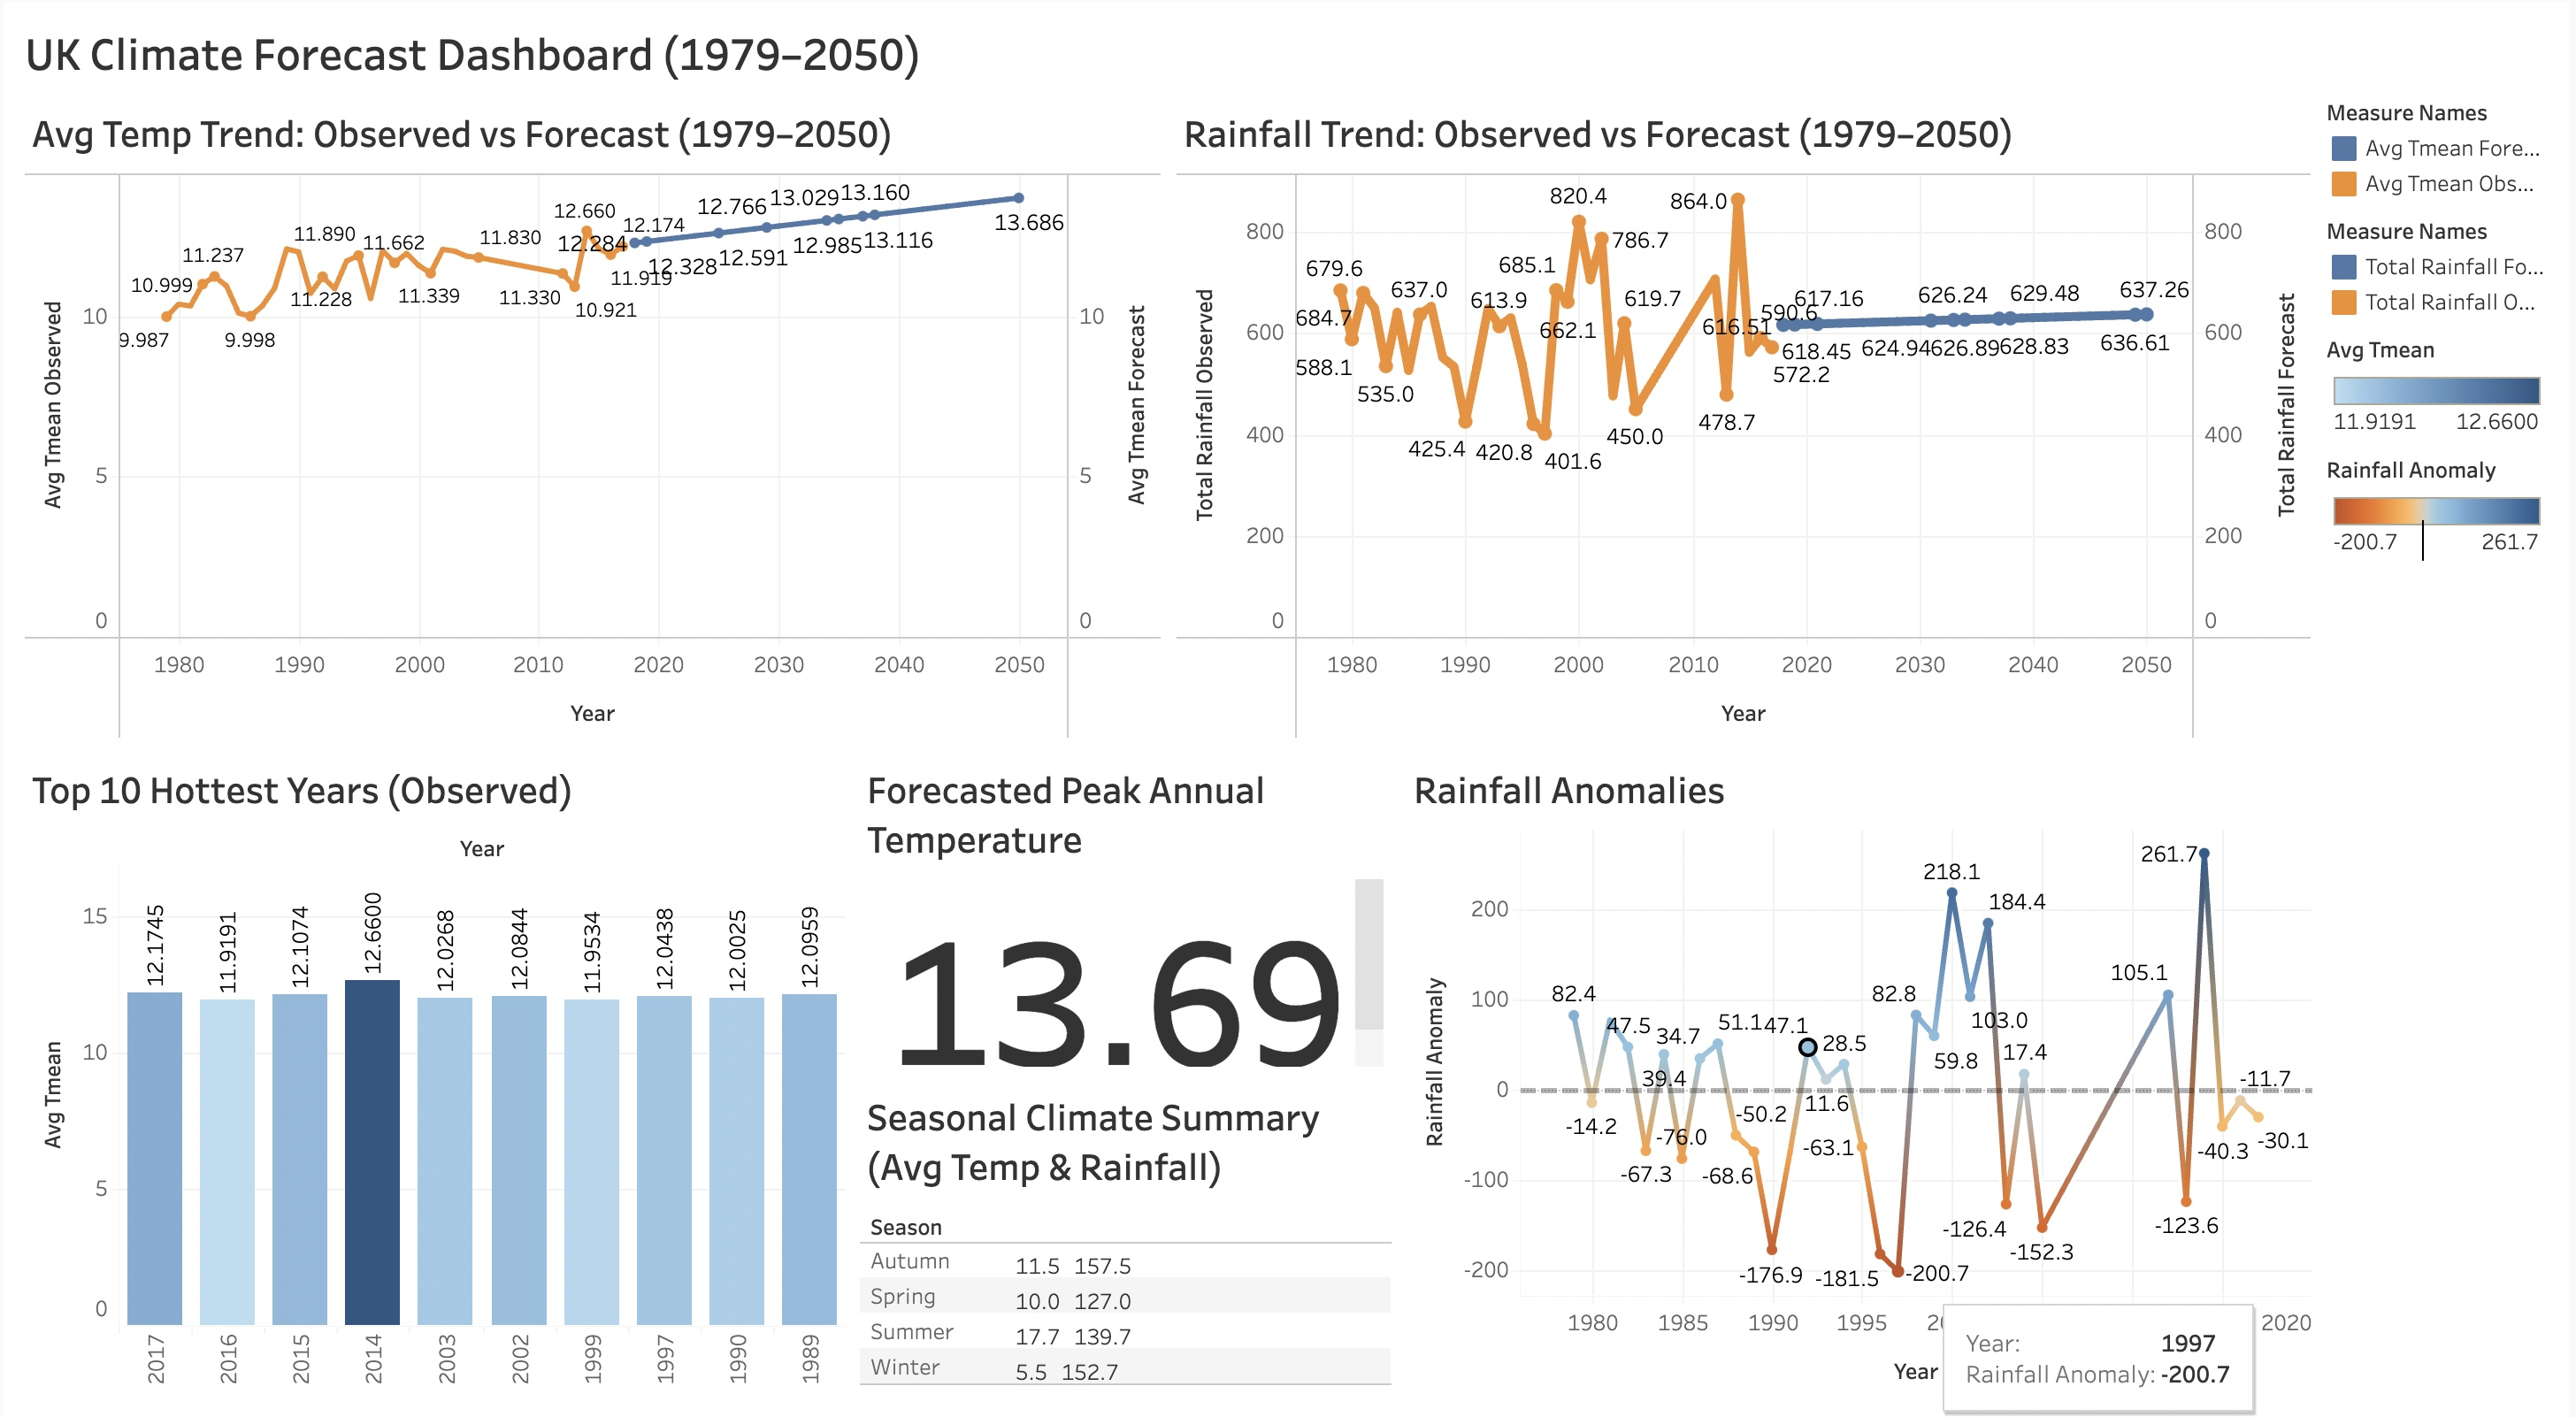

What the dashboard file says about the page in this screenshot:
{"tool":"tableau","page":{"name":"Dashboard 1","canvas":[1450,800],"ordinal":0},"visuals":[{"type":"title","box":[8,8,1434,41]},{"type":"worksheet","title":"Avg Temp Trend: Observed vs Forecast (1979–2050)","mark":"Automatic","rows":["Avg_Tmean_Observed","Avg_Tmean_Forecast"],"cols":["Year"],"box":[8,49,650.5,371.5]},{"type":"worksheet","title":"Rainfall Trend: Observed vs Forecast (1979–2050)","mark":"Automatic","rows":["Total_Rainfall_Observed","Total_Rainfall_Forecast"],"cols":["Year"],"box":[658.5,49,650.5,371.5]},{"type":"legend","title":"Avg Temp Trend: Observed vs Forecast (1979–2050)","param":"[federated.12hfoxq084gbop15384xp19ybw5a].[:Measure Names]","box":[1309,49,133,66]},{"type":"legend","title":"Rainfall Trend: Observed vs Forecast (1979–2050)","param":"[federated.0atxufe1b9aj121b9rx350ksbb9v].[:Measure Names]","box":[1309,115,133,66]},{"type":"legend","title":"Top 10 Hottest Years (Observed)","param":"[federated.1v1nctt1hjptt910r9y021tl5wgg].[sum:Avg_Tmean:qk]","box":[1309,181,133,65]},{"type":"legend","title":"Rainfall Anomalies","param":"[federated.09s7bny0oq3kne1e5pvgr026f9jb].[sum:Rainfall_Anomaly:qk]","box":[1309,246,133,65]},{"type":"worksheet","title":"Top 10 Hottest Years (Observed)","mark":"Bar","rows":["Avg_Tmean"],"cols":["Year"],"box":[8,420.5,471.8,371.5]},{"type":"worksheet","title":"Peak Forecast Temp (KPI)","mark":"Text","box":[479.8,420.5,309.2,185.8]},{"type":"worksheet","title":"Rainfall Anomalies","mark":"Automatic","rows":["Rainfall_Anomaly"],"cols":["Year"],"box":[789,420.5,520,371.5]},{"type":"worksheet","title":"Seasonal Climate Summary (Avg Temp & Rainfall)","mark":"Text","rows":["Season"],"box":[479.8,606.2,309.2,185.8]}]}

Visuals, with their boxes in screenshot pixels (x1, y1, x2, y2), scaled from the page's 1450x800 canvas onto the 2576x1417 screenshot:
title: [14, 14, 2562, 87]
"Avg Temp Trend: Observed vs Forecast (1979–2050)" worksheet: [14, 87, 1169, 745]
"Rainfall Trend: Observed vs Forecast (1979–2050)" worksheet: [1169, 87, 2326, 745]
"Avg Temp Trend: Observed vs Forecast (1979–2050)" legend: [2326, 87, 2562, 203]
"Rainfall Trend: Observed vs Forecast (1979–2050)" legend: [2326, 203, 2562, 320]
"Top 10 Hottest Years (Observed)" legend: [2326, 320, 2562, 436]
"Rainfall Anomalies" legend: [2326, 436, 2562, 551]
"Top 10 Hottest Years (Observed)" worksheet (Bar marks): [14, 745, 853, 1403]
"Peak Forecast Temp (KPI)" worksheet (Text marks): [853, 745, 1402, 1074]
"Rainfall Anomalies" worksheet: [1402, 745, 2326, 1403]
"Seasonal Climate Summary (Avg Temp & Rainfall)" worksheet (Text marks): [853, 1074, 1402, 1403]
